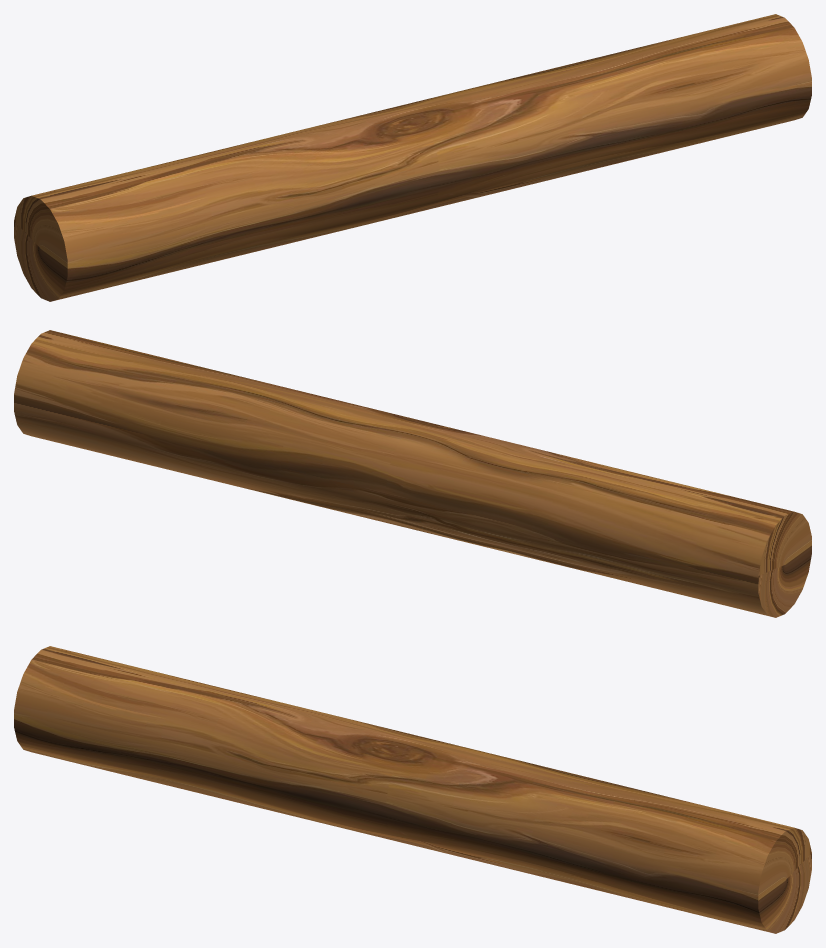
The model's file is Beam.FBX.
The picture shows the model from 3 angles, top to bottom: view 1: azimuth 30°, elevation 25°; view 2: azimuth 150°, elevation 25°; view 3: azimuth 330°, elevation 25°; orthographic projection.
Parts seen in each view (by area): view 1: Cylinder001; view 2: Cylinder001; view 3: Cylinder001.
Part boxes in pixels (x1,y1,x2,y2): Cylinder001: (14, 14, 811, 301); Cylinder001: (14, 330, 811, 617); Cylinder001: (14, 646, 811, 933).
Size of the model in its own units: 67 by 8.48 by 8.35.
